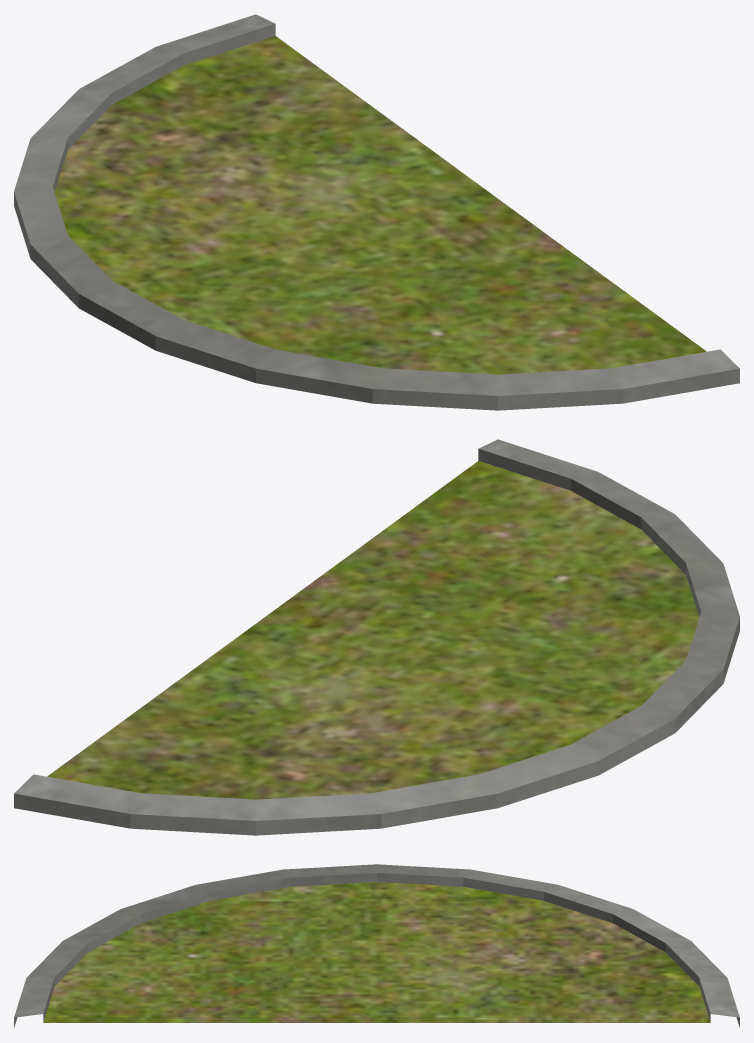
File: LawnStart.fbx
The picture shows the model from 3 angles, top to bottom: view 1: azimuth 30°, elevation 25°; view 2: azimuth 150°, elevation 25°; view 3: azimuth 270°, elevation 25°; orthographic projection. The views are drawn at different scales.
Parts seen in each view (by area): view 1: LawnStart; view 2: LawnStart; view 3: LawnStart.
Boxes of the visible parts, x1,y1,x2,y2 form: LawnStart: [14, 14, 739, 410]; LawnStart: [14, 439, 739, 835]; LawnStart: [14, 864, 739, 1027].
Size of the model in its own units: 450 by 20.09 by 900.
